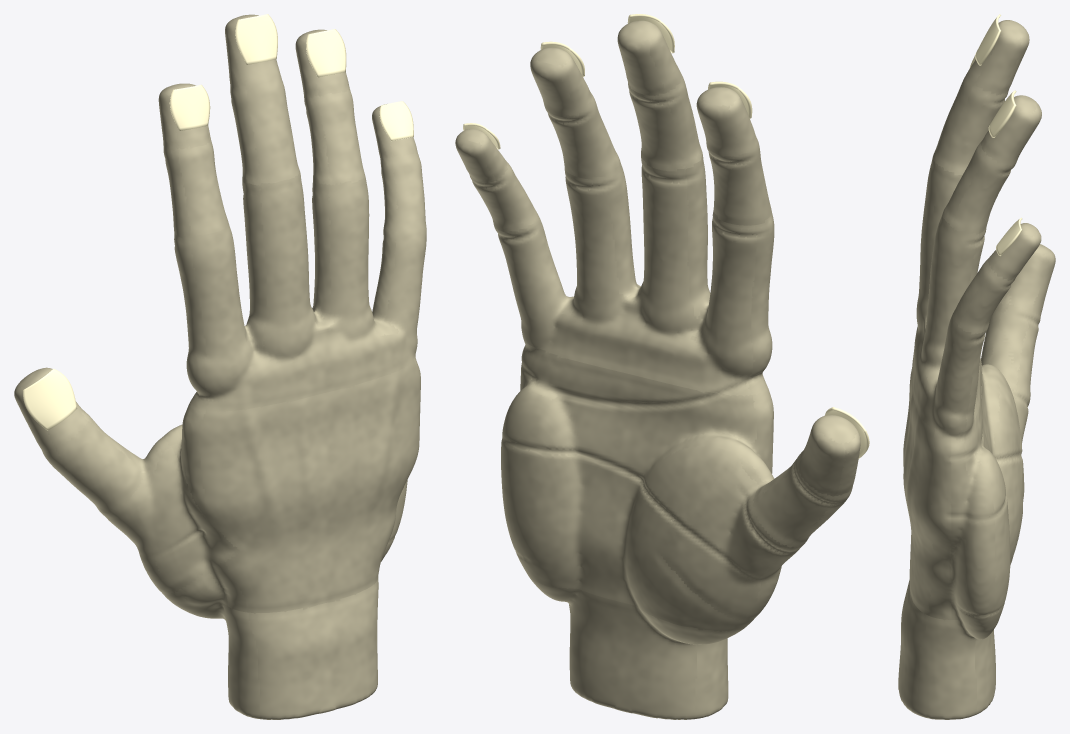
File: family-07.glb
The picture shows the model from 3 angles, left to right: view 1: azimuth 30°, elevation 25°; view 2: azimuth 150°, elevation 25°; view 3: azimuth 270°, elevation 25°; orthographic projection. The views are drawn at different scales.
Visible parts, largest first — view 1: knuckles__knuckles_sculpt, back_of_hand__back_of_hand_sculpt, middle_sections__middle_sections_sculpt, wrist__wrist_sculpt, fingertips__fingertips_sculpt, palm__palm_sculpt, nails__thumb_claw, nails__middle_claw, nails__ring_claw, nails__index_claw, nails__pinky_claw; view 2: knuckles__knuckles_sculpt, palm__palm_sculpt, middle_sections__middle_sections_sculpt, wrist__wrist_sculpt, fingertips__fingertips_sculpt; view 3: palm__palm_sculpt, knuckles__knuckles_sculpt, middle_sections__middle_sections_sculpt, wrist__wrist_sculpt, back_of_hand__back_of_hand_sculpt, fingertips__fingertips_sculpt, nails__ring_claw, nails__middle_claw, nails__pinky_claw.
Boxes of the visible parts, x1=… form: knuckles__knuckles_sculpt: x1=101, y1=172, x2=426, y2=595; back_of_hand__back_of_hand_sculpt: x1=184, y1=356, x2=420, y2=613; middle_sections__middle_sections_sculpt: x1=42, y1=77, x2=426, y2=513; wrist__wrist_sculpt: x1=174, y1=560, x2=382, y2=719; fingertips__fingertips_sculpt: x1=14, y1=14, x2=417, y2=451; palm__palm_sculpt: x1=163, y1=403, x2=407, y2=606; nails__thumb_claw: x1=23, y1=368, x2=77, y2=430; nails__middle_claw: x1=235, y1=14, x2=277, y2=64; nails__ring_claw: x1=306, y1=29, x2=346, y2=77; nails__index_claw: x1=169, y1=84, x2=210, y2=130; nails__pinky_claw: x1=379, y1=101, x2=413, y2=141; knuckles__knuckles_sculpt: x1=494, y1=154, x2=803, y2=622; palm__palm_sculpt: x1=501, y1=341, x2=771, y2=631; middle_sections__middle_sections_sculpt: x1=470, y1=73, x2=852, y2=547; wrist__wrist_sculpt: x1=530, y1=578, x2=742, y2=719; fingertips__fingertips_sculpt: x1=455, y1=20, x2=860, y2=496; palm__palm_sculpt: x1=949, y1=358, x2=1022, y2=631; knuckles__knuckles_sculpt: x1=912, y1=156, x2=1030, y2=501; middle_sections__middle_sections_sculpt: x1=933, y1=71, x2=1040, y2=393; wrist__wrist_sculpt: x1=898, y1=580, x2=996, y2=719; back_of_hand__back_of_hand_sculpt: x1=903, y1=369, x2=951, y2=620; fingertips__fingertips_sculpt: x1=968, y1=20, x2=1055, y2=315; nails__ring_claw: x1=988, y1=90, x2=1016, y2=137; nails__middle_claw: x1=975, y1=14, x2=1001, y2=65; nails__pinky_claw: x1=996, y1=217, x2=1022, y2=255.
Size of the model in its own units: 0.1312 by 0.2171 by 0.0471.
2 materials, 1 textured.
